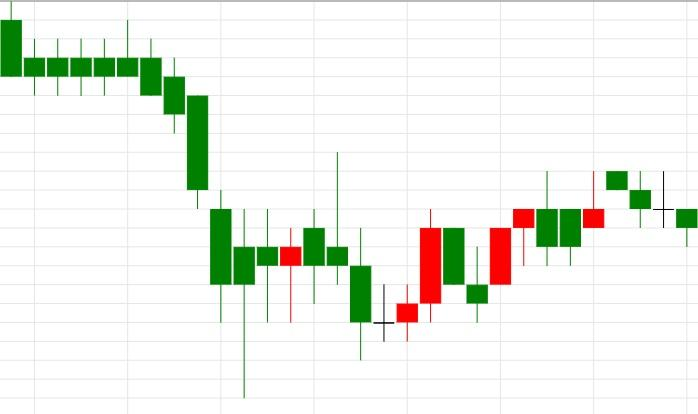morning_star_rise: (280, 152, 418, 361)
